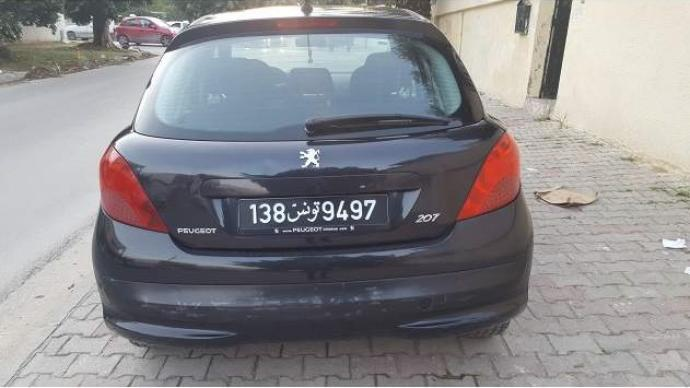LP: (237, 191, 390, 226)
